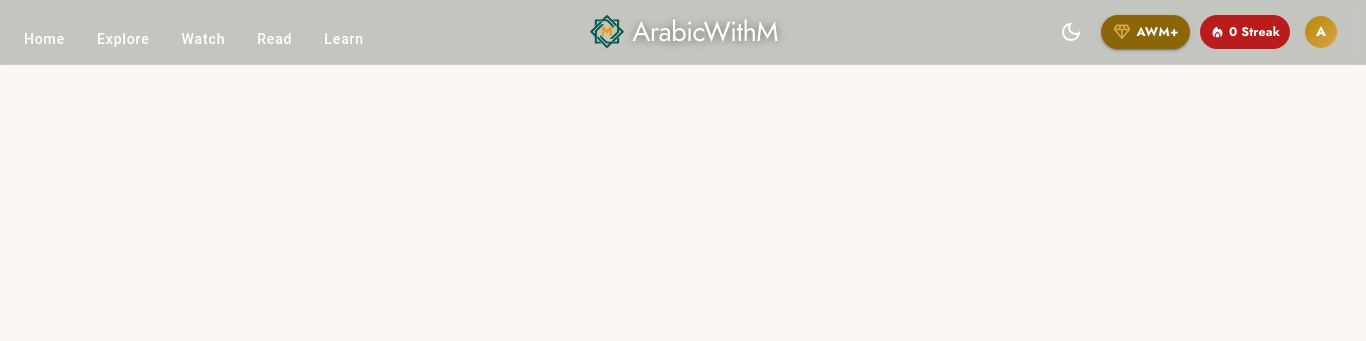
Test case: preserves authorised Home management navigation on mobile=false
Click the button named "Open user menu": (1321, 32) [1300, 11, 1342, 53]
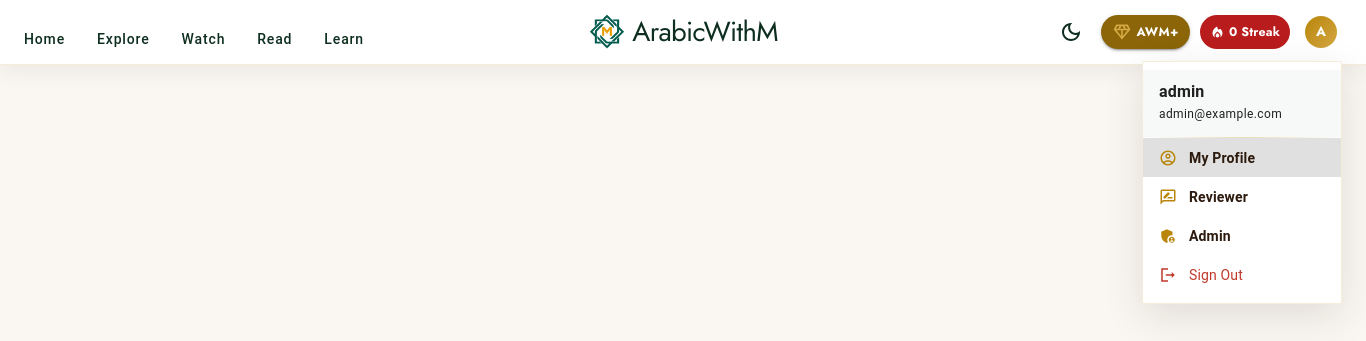
Now the text "admin" is shown, box [1159, 82, 1204, 101]
